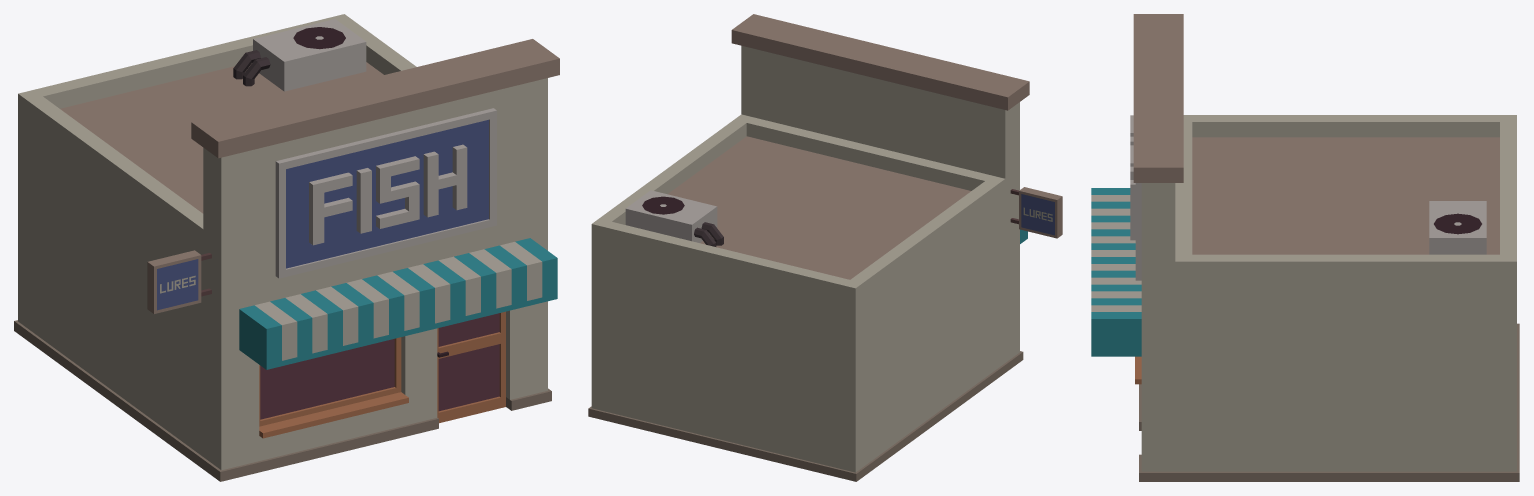
File: Building_20.fbx
3 views of the same model, side by side, from view 1: azimuth 30°, elevation 25°; view 2: azimuth 150°, elevation 25°; view 3: azimuth 270°, elevation 25° (orthographic). The views are drawn at different scales.
Visible parts, largest first — view 1: Building_20, Building_20LP; view 2: Building_20; view 3: Building_20, Building_20LP.
Part boxes in pixels (x1,y1,x2,y2): Building_20: (14, 14, 559, 481); Building_20LP: (160, 108, 499, 419); Building_20: (588, 14, 1062, 481); Building_20: (1091, 14, 1519, 481); Building_20LP: (1130, 115, 1141, 280).
Size of the model in its own units: 7.8 by 6.5 by 7.96.
